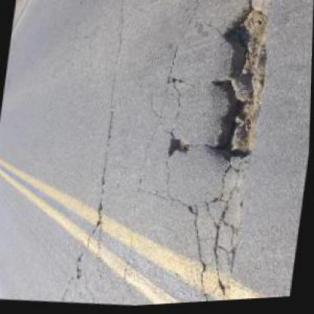Hueco: (198, 0, 275, 171), (164, 135, 192, 160)
